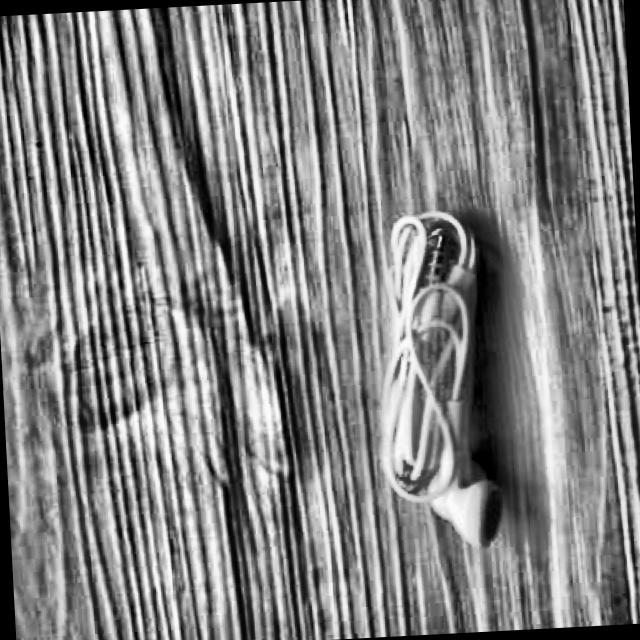Cable: (364, 210, 510, 552)
